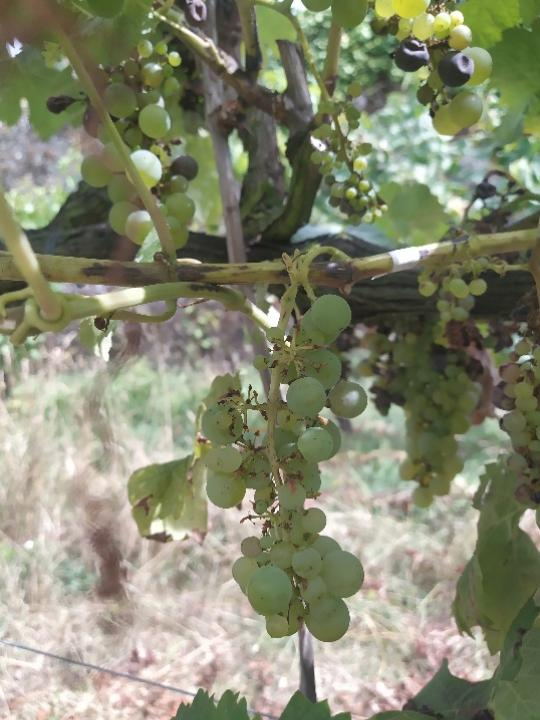grape: (199, 293, 372, 645)
